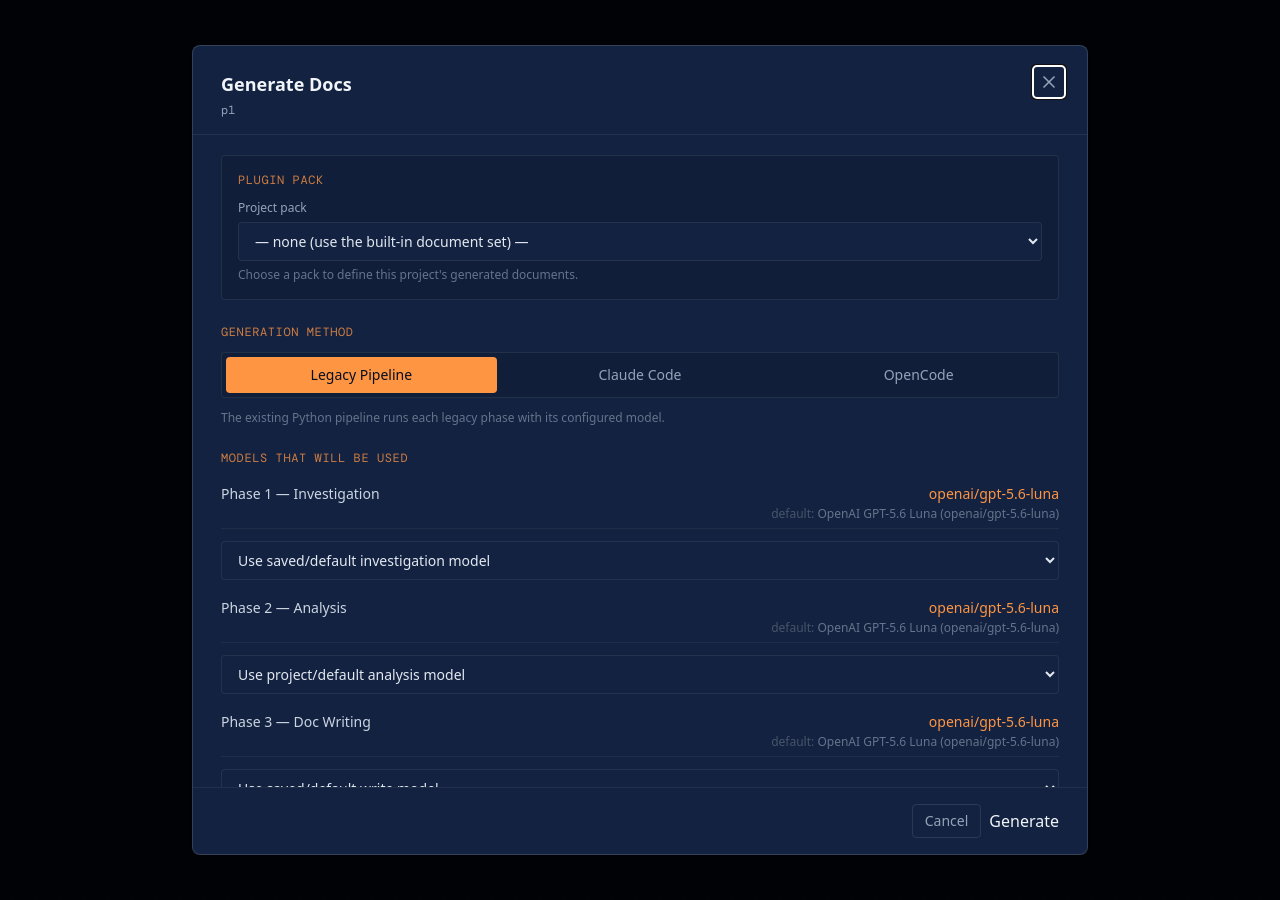
Scenario: EP-000 dashboard panels › separates the OpenCode method from its session model
The width and height of the screenshot is (1280, 900).
Expected: the option "OpenCode CLI" is not shown
Click the tab "OpenCode" at (919, 375), box [783, 357, 1054, 393]
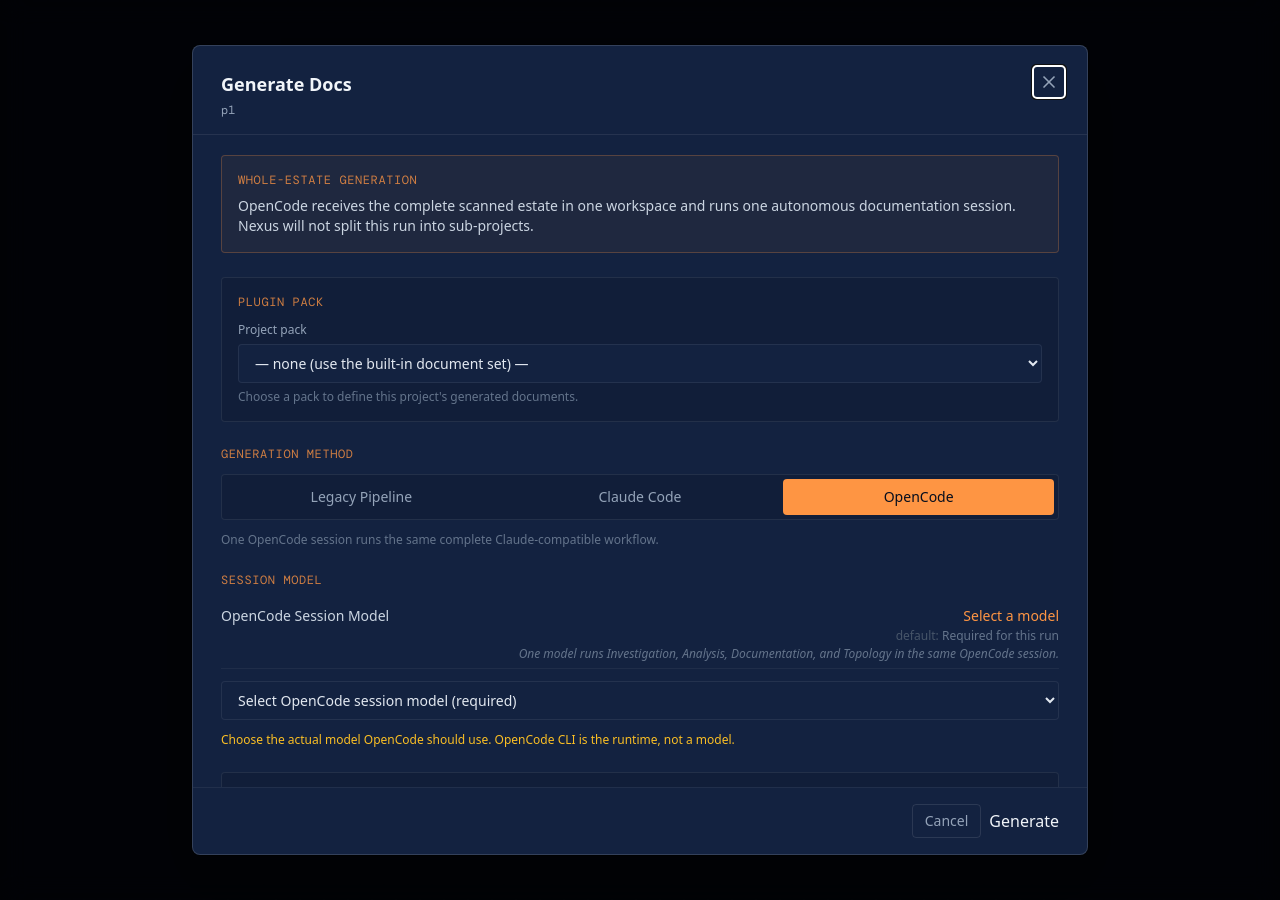
Now the text "OpenCode Session Model" is shown, box [221, 606, 389, 626]
Now the text "Phase 1 — Investigation" is gone
Now the text "Phase 2 — Analysis" is gone
